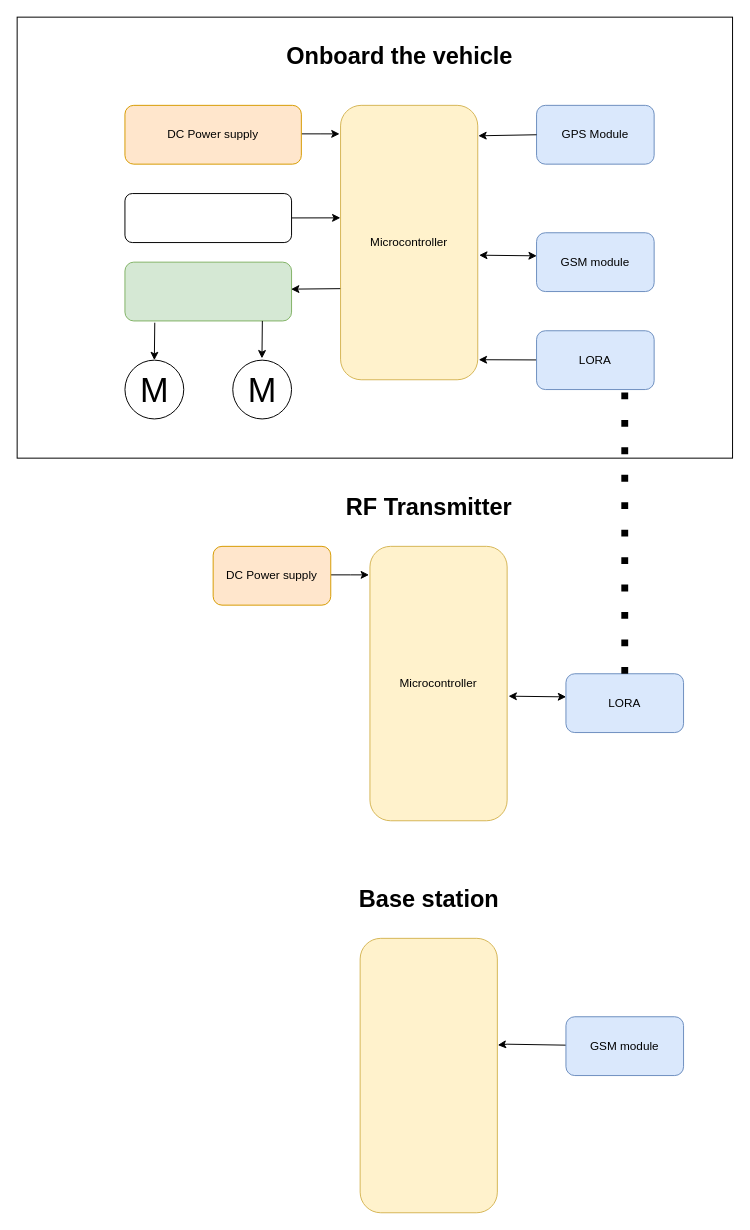
Some shapes in this 750 by 1230 pixel diagram are drawn without their labels. The centre of each missing label's shape, as x and y in pixels:
GSM RECEIVER(Mobile phone): [428,1075]
Motor Driver: [208,291]
Speed sensor: [208,218]
